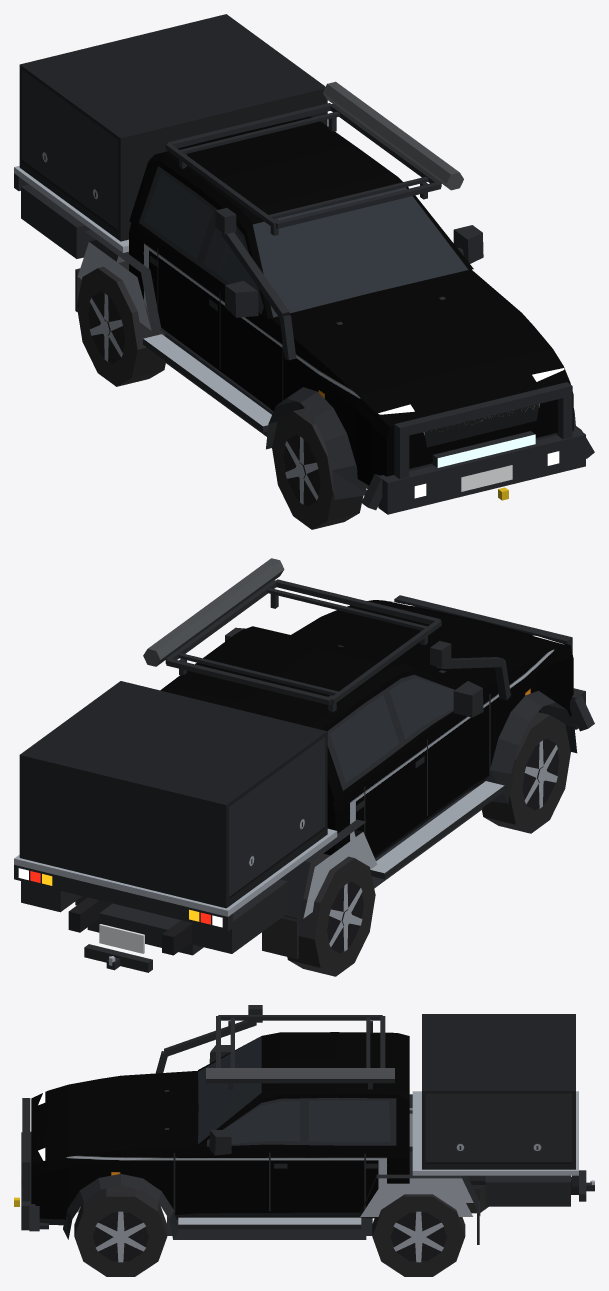
Rendered from tradie-ute.lod0.glb.
The picture shows the model from 3 angles, top to bottom: view 1: azimuth 30°, elevation 25°; view 2: azimuth 150°, elevation 25°; view 3: azimuth 270°, elevation 25°; orthographic projection. The views are drawn at different scales.
Visible parts, largest first — view 1: core, front, back, door_RR, wheel_RR, wheel_FR, door_FR; view 2: back, core, front, wheel_RR, door_RR, wheel_FR, door_FR, interior_boot; view 3: core, back, front, door_RL, wheel_FL, door_FL, wheel_RL, interior_boot.
Boxes of the visible parts, x1,y1,x2,y2 form: core: (129,81,486,436); front: (266,283,594,514); back: (14,14,327,330); door_RR: (129,223,227,379); wheel_RR: (76,261,165,386); wheel_FR: (272,408,363,529); door_FR: (220,288,283,412); back: (14,681,377,972); core: (143,558,510,888); front: (291,595,594,803); wheel_RR: (287,853,375,976); door_RR: (333,735,426,858); wheel_FR: (482,712,570,833); door_FR: (420,686,489,825); interior_boot: (87,903,203,955); core: (156,1005,409,1239); back: (360,1014,594,1244); front: (14,1072,178,1239); door_RL: (269,1148,409,1218); wheel_FL: (74,1185,167,1276); door_FL: (173,1145,269,1219); wheel_RL: (372,1194,465,1276); interior_boot: (409,1151,488,1213).
Size of what is drawn, in the model's own units: 2.12 by 2.11 by 5.66.
1 material, 1 textured.
